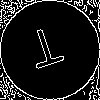T: (25, 25, 68, 78)
